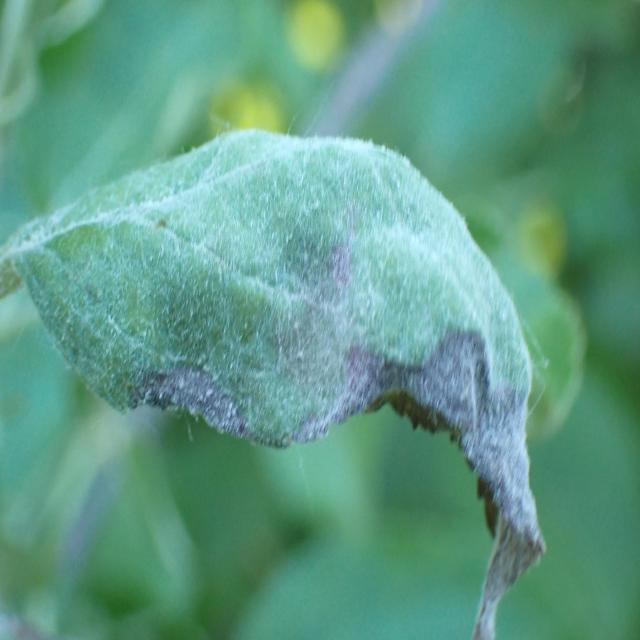Powdery_mildew: (3, 116, 567, 640)
